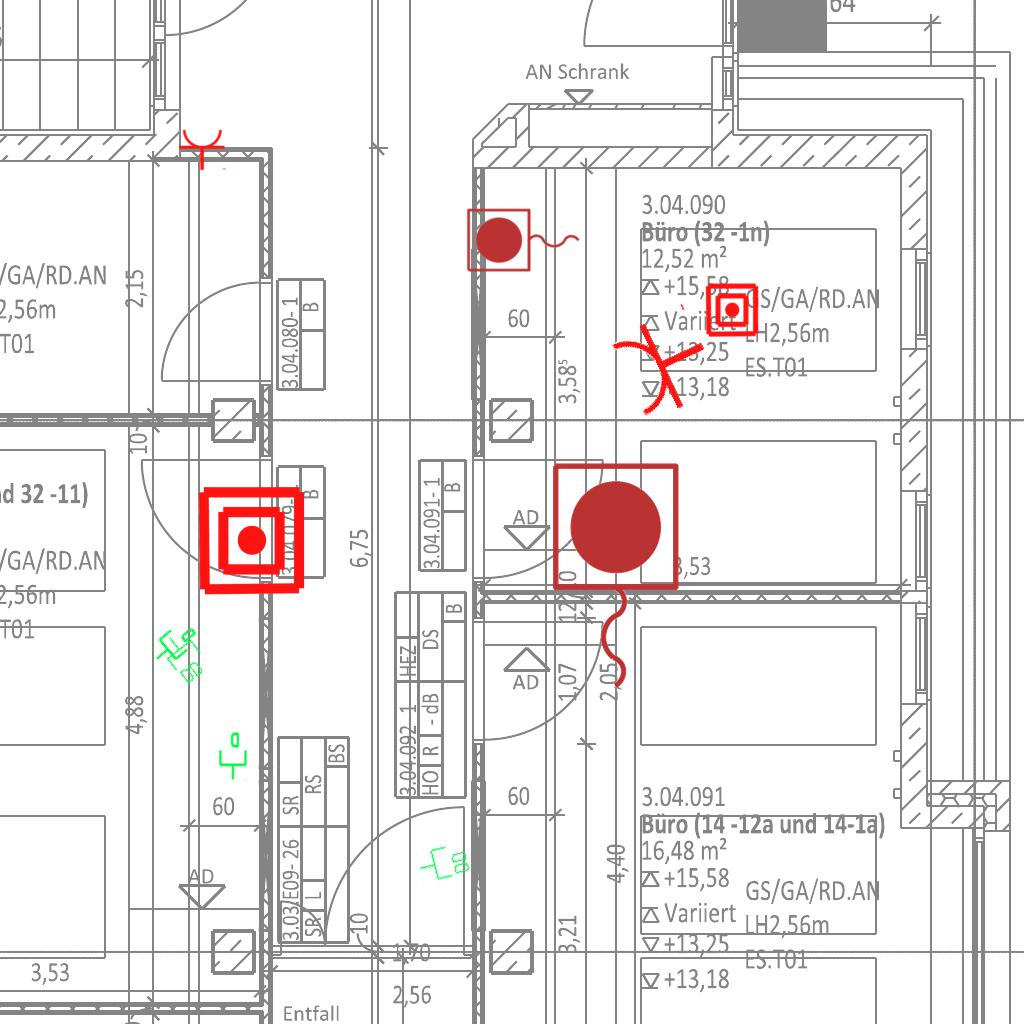Datenanschluss_einfach: (143, 613, 205, 673), (215, 731, 249, 781)
Datenanschluss_zweifach: (155, 626, 214, 688), (414, 840, 473, 886)
NAM-Nichtautomatischer_Melder: (195, 484, 308, 597), (704, 282, 760, 338)
Schukosteckdose_einfach: (603, 298, 726, 426), (178, 128, 228, 171)
Zugtaster: (542, 455, 686, 699), (463, 205, 585, 277)
